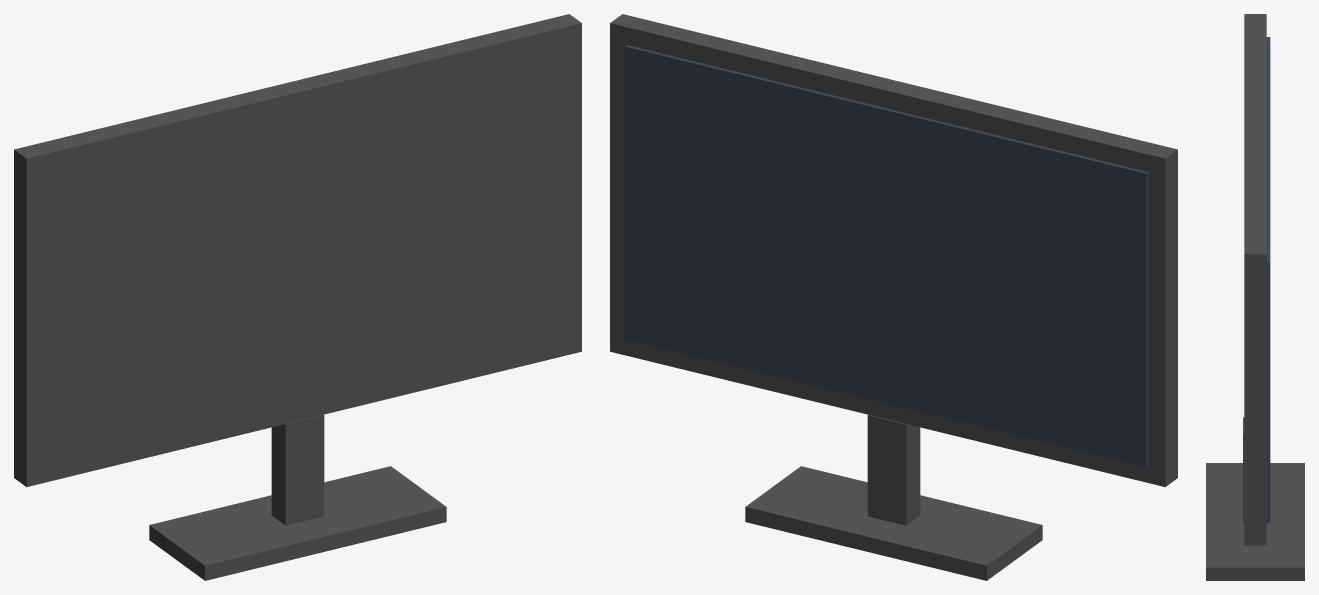
File: elet_smart_tv.glb
3 renders of one model, left to right at view 1: azimuth 30°, elevation 25°; view 2: azimuth 150°, elevation 25°; view 3: azimuth 270°, elevation 25°, orthographic. The views are drawn at different scales.
Visible parts, largest first — view 1: ELET_SMART_TV_v01; view 2: ELET_SMART_TV_v01; view 3: ELET_SMART_TV_v01.
Part boxes in pixels (x1,y1,x2,y2): ELET_SMART_TV_v01: (14,14,581,580); ELET_SMART_TV_v01: (610,14,1177,580); ELET_SMART_TV_v01: (1206,14,1304,580).
Bounding box in the file's own units: 1.15 × 0.88 × 0.2.
